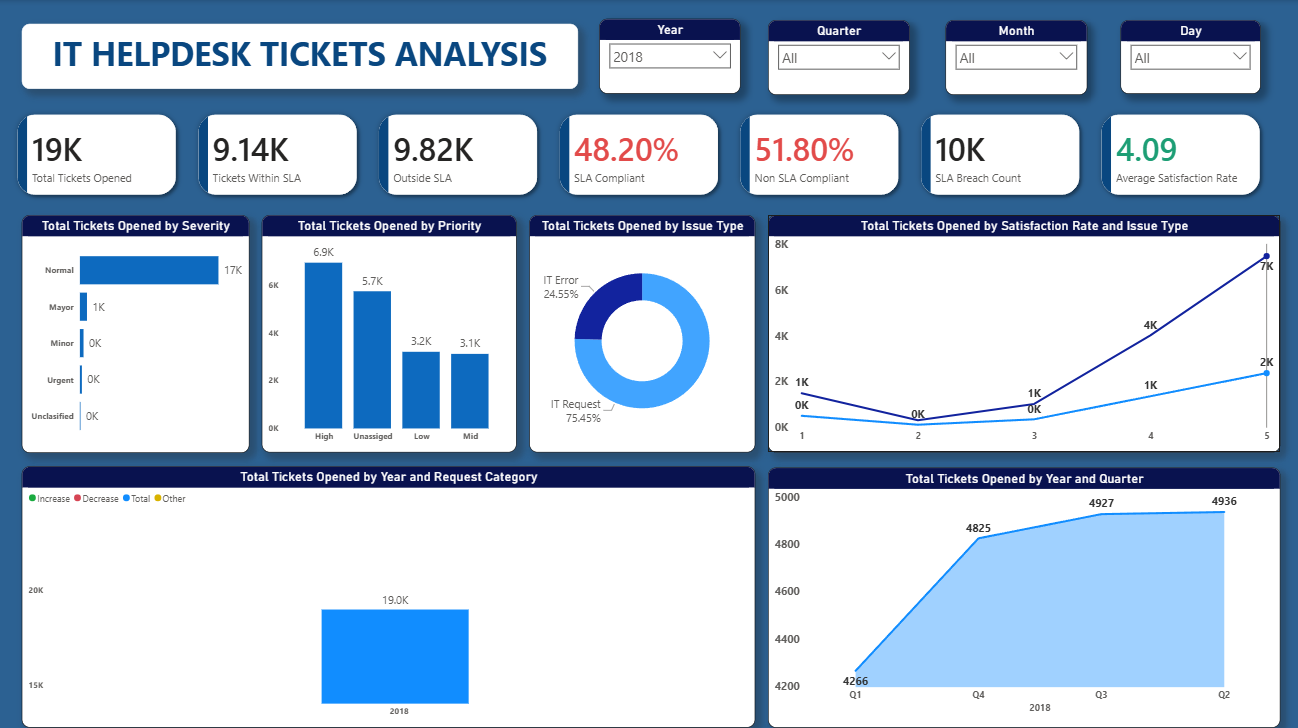

What the dashboard file says about the page in this screenshot:
{"tool":"powerbi","page":{"name":"Overview","canvas":[1920,1080],"ordinal":0},"visuals":[{"type":"textbox","box":[35,35,819,95.7],"z":0},{"type":"slicer","title":"Year","fields":{"Values":["Calendar.Year"]},"box":[885.1,27.7,208,110],"z":1000},{"type":"slicer","title":"Quarter","fields":{"Values":["Calendar.Quarter"]},"box":[1134,29.8,208.5,110.6],"z":2000},{"type":"slicer","title":"Month","fields":{"Values":["Calendar.MonthName"]},"box":[1395.7,29.8,208.5,110.6],"z":3000},{"type":"slicer","title":"Day","fields":{"Values":["Calendar.Day"]},"box":[1653.2,29.8,206.4,108.5],"z":4000},{"type":"cardVisual","fields":{"Data":["Measure_Table.Total Tickets","Measure_Table.Tickets Within SLA","Measure_Table.Outside SLA","Measure_Table.SLA Compliant","Measure_Table.Non SLA Compliant","Measure_Table.SLA Breach Count","Measure_Table.Average Satisfaction Rate"]},"box":[0,139.9,1888.4,176.7],"z":5000},{"type":"clusteredBarChart","fields":{"Category":["Severity.Severity"],"Y":["Measure_Table.Total Tickets"]},"box":[35,316.6,335,350],"z":6000},{"type":"clusteredColumnChart","fields":{"Category":["Priority.Priority"],"Y":["Measure_Table.Total Tickets"]},"box":[388.3,316.6,375.5,349.7],"z":7000},{"type":"waterfallChart","fields":{"Category":["Calendar.Year"],"Y":["Measure_Table.Total Tickets"],"Breakdown":["Tickets.Request Category"]},"box":[35,686.5,1080.4,384.7],"z":8000},{"type":"areaChart","fields":{"Category":["Calendar.Year","Calendar.Quarter","Calendar.MonthName"],"Y":["Measure_Table.Total Tickets"]},"box":[1133.7,688.3,754.6,382.8],"z":9000},{"type":"donutChart","fields":{"Y":["Measure_Table.Total Tickets"],"Category":["Tickets.Issue Type"]},"box":[782.2,316.6,333.1,349.7],"z":10000},{"type":"lineChart","fields":{"Category":["Tickets.Satisfaction Rate"],"Y":["Measure_Table.Total Tickets"],"Series":["Tickets.Issue Type"]},"box":[1133.7,316.6,754.6,349.7],"z":11000}]}

Visuals, with their boxes in screenshot pixels (x1, y1, x2, y2), scaled from the page's 1920x1080 canvas onto the 1298x728 screenshot:
textbox: {"left": 24, "top": 24, "right": 577, "bottom": 88}
"Year" slicer: {"left": 598, "top": 19, "right": 739, "bottom": 93}
"Quarter" slicer: {"left": 767, "top": 20, "right": 908, "bottom": 95}
"Month" slicer: {"left": 944, "top": 20, "right": 1085, "bottom": 95}
"Day" slicer: {"left": 1118, "top": 20, "right": 1257, "bottom": 93}
cardVisual - Measure_Table.Total Tickets x Measure_Table.Tickets Within SLA: {"left": 0, "top": 94, "right": 1277, "bottom": 213}
clusteredBarChart - Severity.Severity x Measure_Table.Total Tickets: {"left": 24, "top": 213, "right": 250, "bottom": 449}
clusteredColumnChart - Priority.Priority x Measure_Table.Total Tickets: {"left": 263, "top": 213, "right": 516, "bottom": 449}
waterfallChart - Calendar.Year x Measure_Table.Total Tickets: {"left": 24, "top": 463, "right": 754, "bottom": 722}
areaChart - Calendar.Year x Calendar.Quarter: {"left": 766, "top": 464, "right": 1277, "bottom": 722}
donutChart - Measure_Table.Total Tickets x Tickets.Issue Type: {"left": 529, "top": 213, "right": 754, "bottom": 449}
lineChart - Tickets.Satisfaction Rate x Measure_Table.Total Tickets: {"left": 766, "top": 213, "right": 1277, "bottom": 449}
